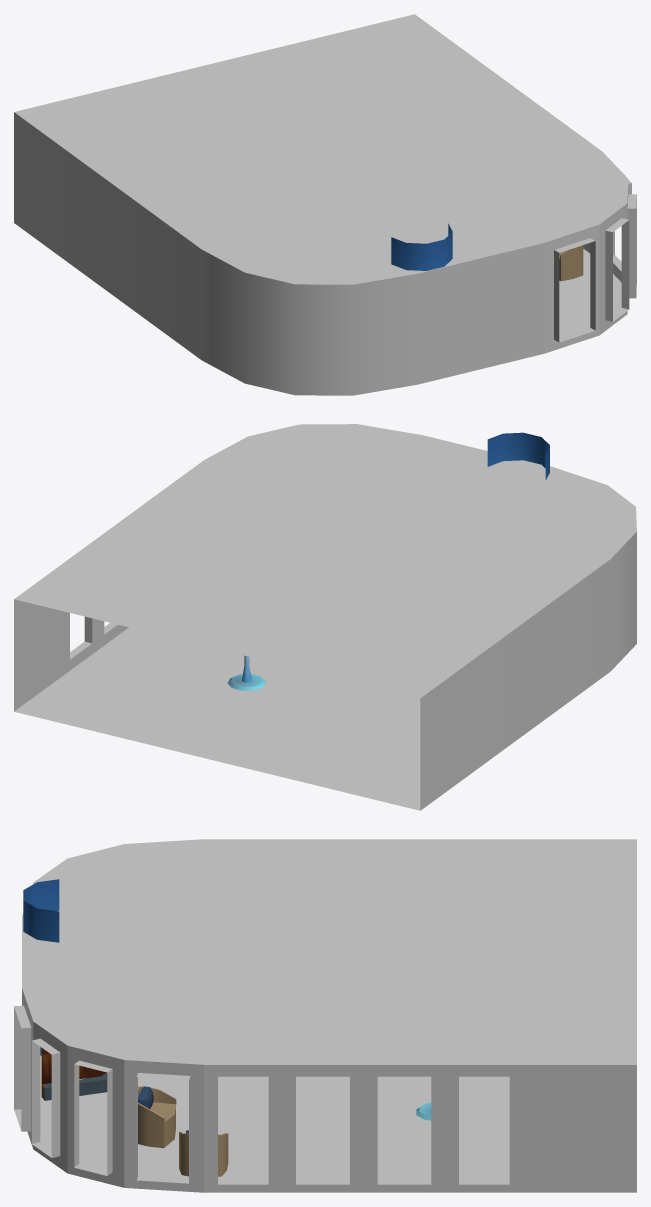
The model's file is Bar_Interior.FBX.
3 renders of one model, top to bottom at view 1: azimuth 30°, elevation 25°; view 2: azimuth 150°, elevation 25°; view 3: azimuth 270°, elevation 25°, orthographic. The views are drawn at different scales.
Parts seen in each view (by area): view 1: Bar, Bar Furniture; view 2: Bar, Bar Furniture; view 3: Bar, Bar Furniture.
Part boxes in pixels (left/top/right/bottom): Bar: left=14, top=14, right=636, bottom=395; Bar Furniture: left=391, top=223, right=583, bottom=281; Bar: left=14, top=424, right=636, bottom=810; Bar Furniture: left=227, top=432, right=549, bottom=690; Bar: left=14, top=839, right=636, bottom=1192; Bar Furniture: left=23, top=879, right=431, bottom=1176.
Size of the model in its own units: 368 by 120 by 421.
